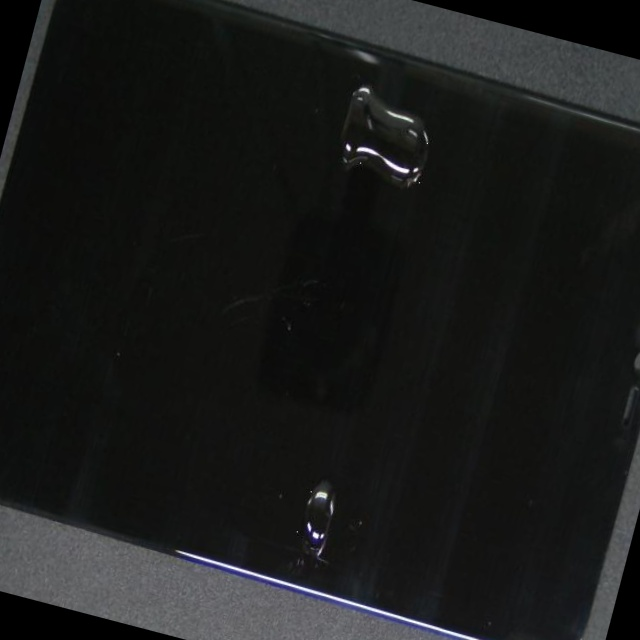oil: (76, 206, 544, 640), (233, 41, 634, 234)
